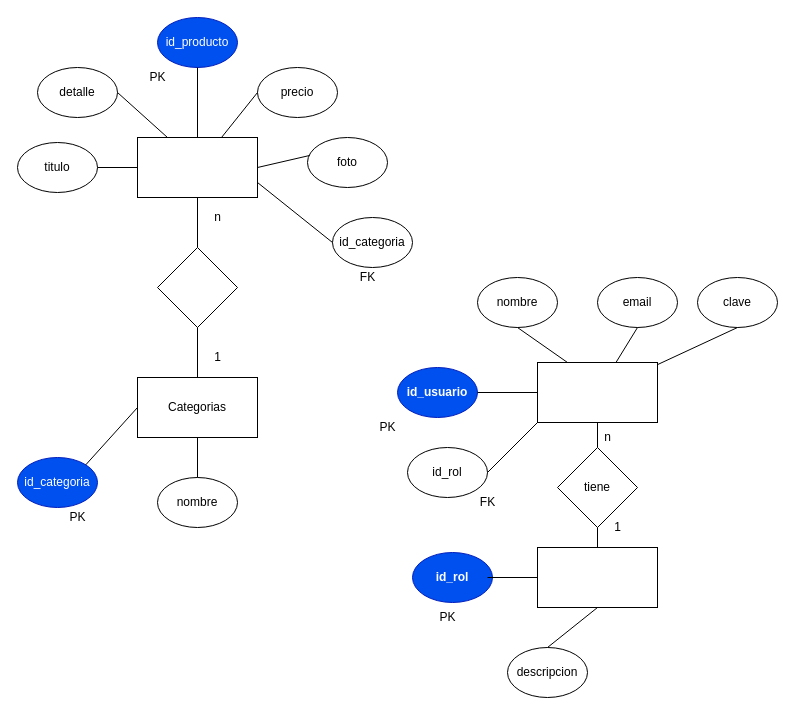
This 795x715 diagram has some shape labels left out. Each missing label, with the centre of its shape:
pertenece: (197,287)
Posteos: (197,167)
Roles: (597,577)
Usuarios: (597,392)
